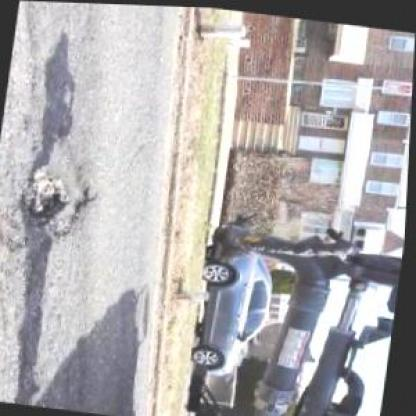pothole: (12, 154, 100, 245)
